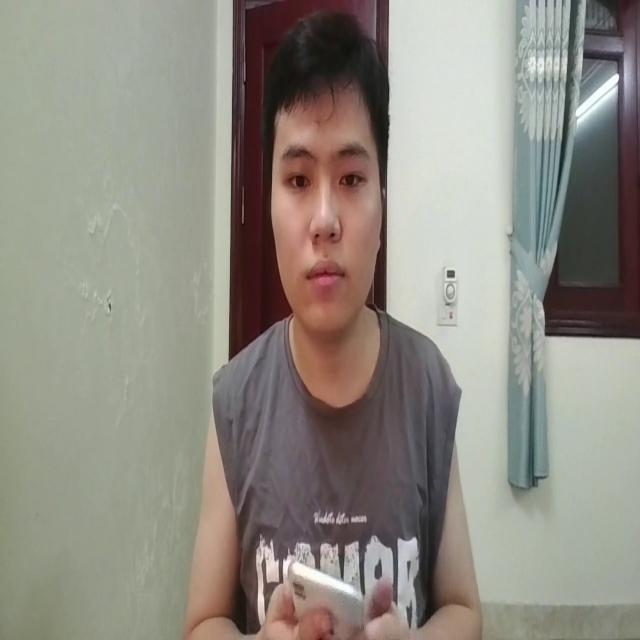phone: (286, 549, 376, 624)
student: (193, 6, 481, 640)
